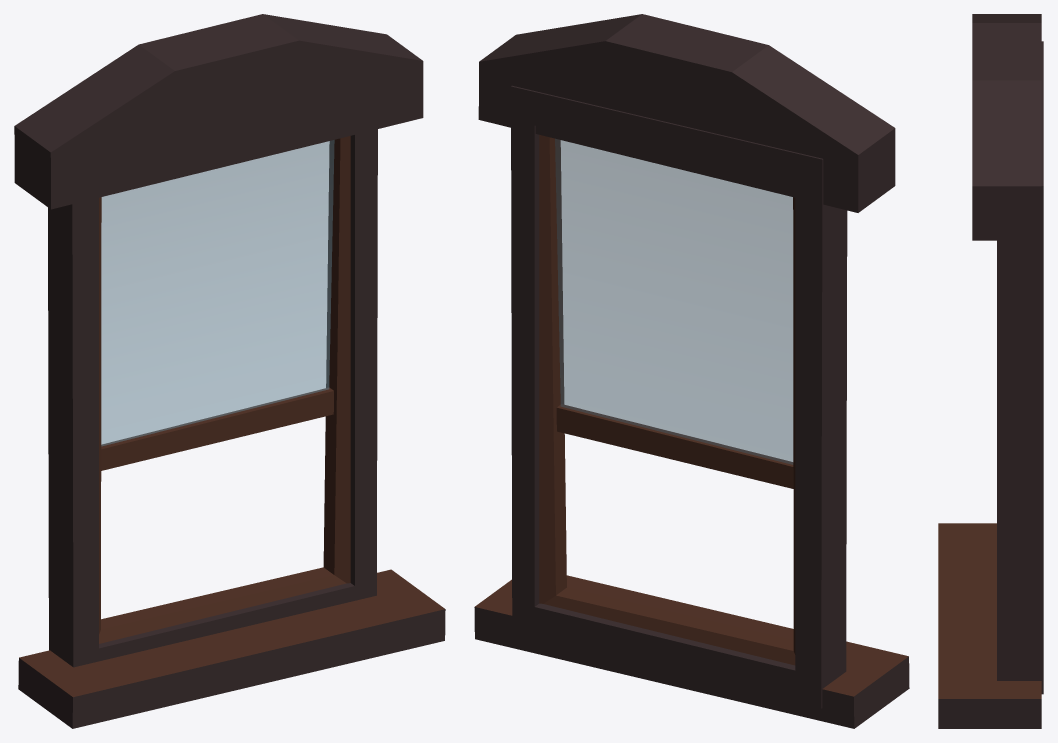
File: Window 2x4 V3 B Open.glb
3 renders of one model, left to right at view 1: azimuth 30°, elevation 25°; view 2: azimuth 150°, elevation 25°; view 3: azimuth 270°, elevation 25°, orthographic. The views are drawn at different scales.
Parts seen in each view (by area): view 1: Window 2x4 V3 B Open; view 2: Window 2x4 V3 B Open; view 3: Window 2x4 V3 B Open.
Boxes of the visible parts, x1,y1,x2,y2 form: Window 2x4 V3 B Open: [14, 14, 445, 728]; Window 2x4 V3 B Open: [474, 14, 909, 728]; Window 2x4 V3 B Open: [938, 14, 1043, 728].
Size of the model in its own units: 1.42 by 2.23 by 0.3601.
Materials: 2 (2 with a texture image).
